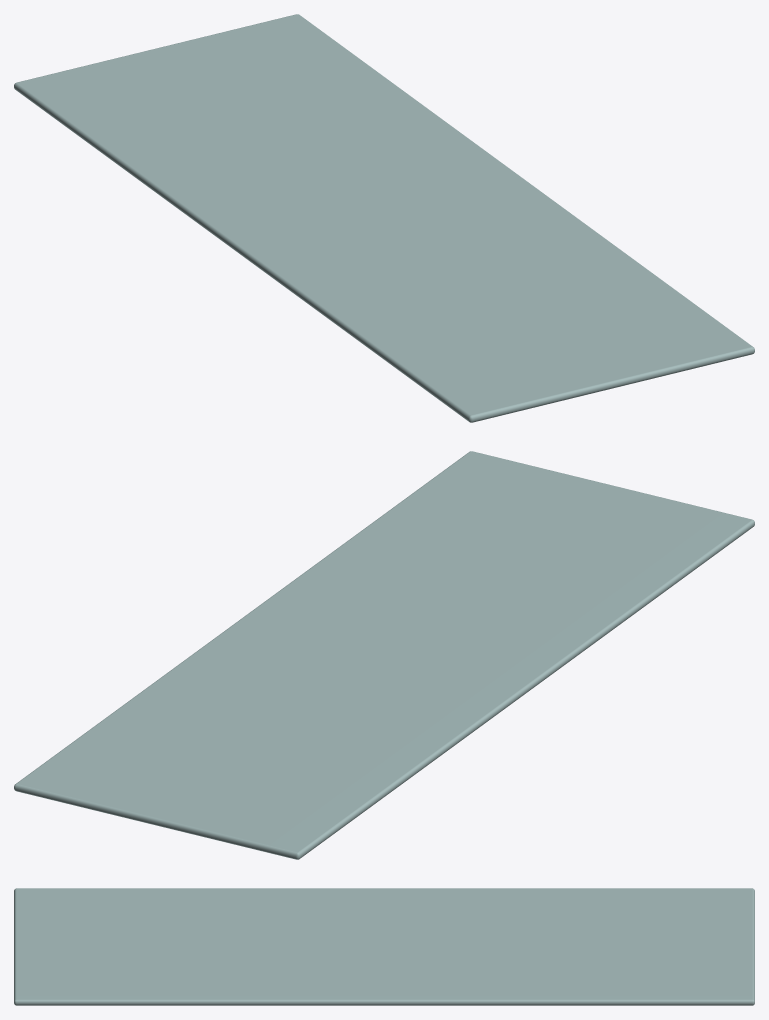
File: atelier-yoga-mat.glb
3 renders of one model, top to bottom at view 1: azimuth 30°, elevation 25°; view 2: azimuth 150°, elevation 25°; view 3: azimuth 270°, elevation 25°, orthographic. The views are drawn at different scales.
Visible parts, largest first — view 1: fabric.108; view 2: fabric.108; view 3: fabric.108.
Boxes of the visible parts, <box> form: fabric.108: <box>14,14,754,422</box>; fabric.108: <box>14,451,754,859</box>; fabric.108: <box>14,888,754,1005</box>.
Size of the model in its own units: 0.65 by 0.016 by 1.8.
